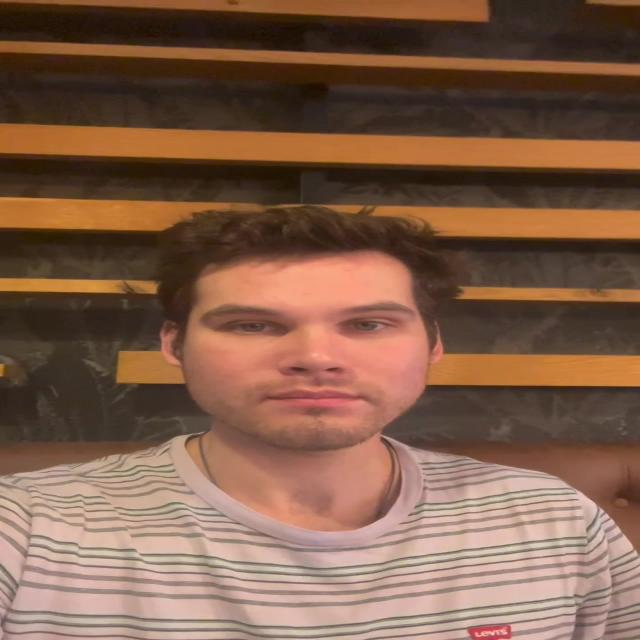earlobe: (162, 353, 184, 367), (426, 352, 443, 366)
eye: (227, 321, 278, 333), (340, 321, 392, 331)
nose: (280, 368, 350, 388)
wholeear: (159, 319, 183, 368), (425, 320, 446, 366)
